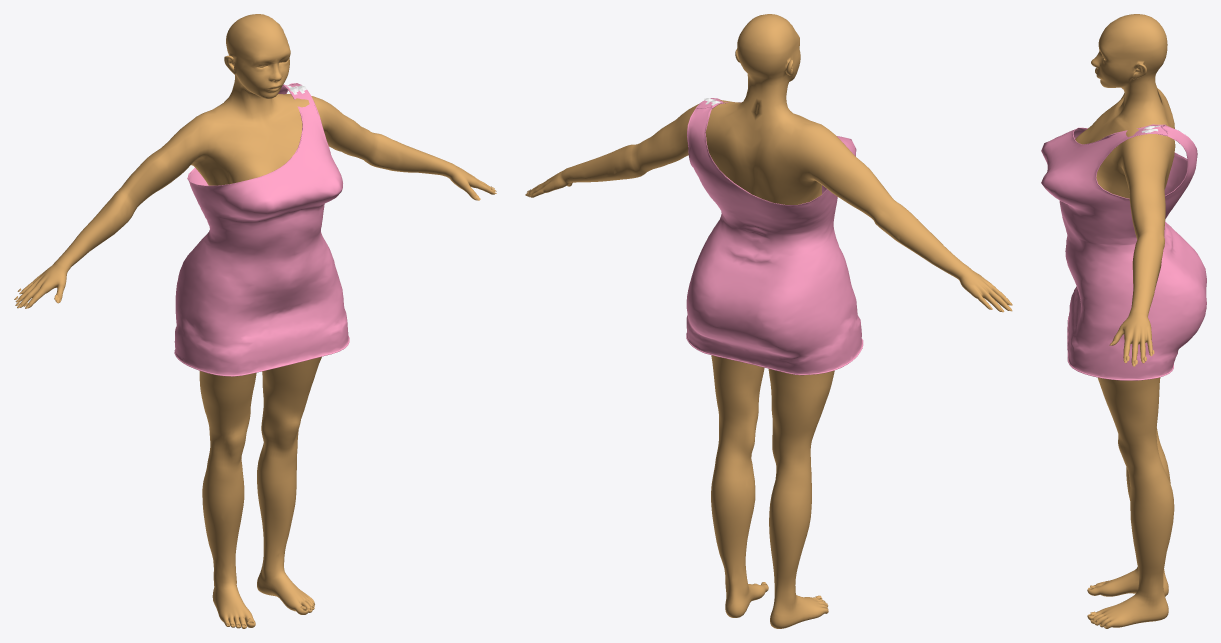
The model's file is dress1.glb.
3 views of the same model, side by side, from view 1: azimuth 30°, elevation 25°; view 2: azimuth 150°, elevation 25°; view 3: azimuth 270°, elevation 25° (orthographic).
Visible parts, largest first — view 1: Body.003, WhiteDress; view 2: Body.003, WhiteDress; view 3: Body.003, WhiteDress.
Boxes of the visible parts, left/top/right/bottom form: Body.003: left=18, top=14, right=496, bottom=628; WhiteDress: left=174, top=83, right=349, bottom=376; Body.003: left=527, top=14, right=1009, bottom=628; WhiteDress: left=686, top=98, right=863, bottom=375; Body.003: left=1075, top=14, right=1175, bottom=628; WhiteDress: left=1041, top=124, right=1206, bottom=380.
Bounding box in the file's own units: 1.58 × 1.85 × 0.4699.
